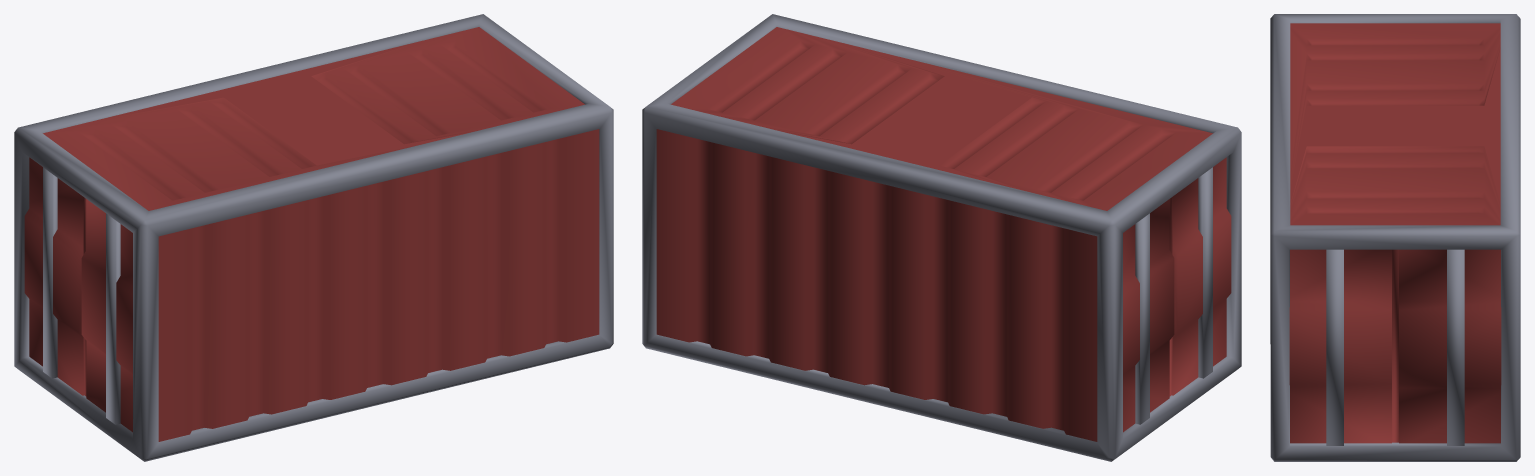
The model's file is container-medium.glb.
3 views of the same model, side by side, from view 1: azimuth 30°, elevation 25°; view 2: azimuth 150°, elevation 25°; view 3: azimuth 270°, elevation 25° (orthographic). The views are drawn at different scales.
Visible parts, largest first — view 1: Container_Long baked; view 2: Container_Long baked; view 3: Container_Long baked.
Part boxes in pixels (<box>): Container_Long baked: <box>14,14,613,461</box>; Container_Long baked: <box>642,14,1241,461</box>; Container_Long baked: <box>1270,14,1520,461</box>.
Bounding box in the file's own units: 5.32 × 2.6 × 2.55.
